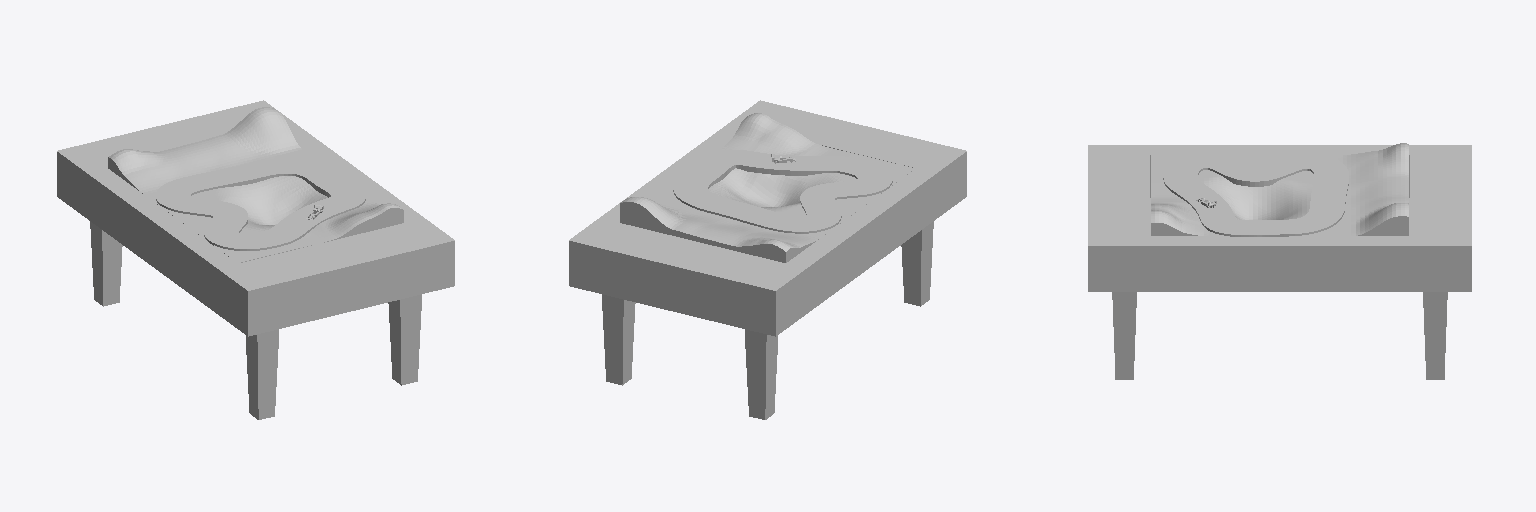
The model's file is NewestTisch42.obj.
3 views of the same model, side by side, from view 1: azimuth 30°, elevation 25°; view 2: azimuth 150°, elevation 25°; view 3: azimuth 270°, elevation 25° (orthographic).
Visible parts, largest first — view 1: Tischplatte_wood_table_001, Landschaft_aerial_grass_rock, off, Bein1_wood_table_001, Bein4_wood_table_001.003, Bein3_wood_table_001.002; view 2: Tischplatte_wood_table_001, Landschaft_aerial_grass_rock, off, Bein2_wood_table_001.001, Bein3_wood_table_001.002, Bein4_wood_table_001.003; view 3: Tischplatte_wood_table_001, Landschaft_aerial_grass_rock, off, Bein1_wood_table_001, Bein2_wood_table_001.001.
Part boxes in pixels (x1,y1,x2,y2): Tischplatte_wood_table_001: (57, 100, 454, 336); Landschaft_aerial_grass_rock: (108, 107, 403, 262); off: (156, 159, 365, 250); Bein1_wood_table_001: (388, 294, 421, 385); Bein4_wood_table_001.003: (246, 329, 278, 419); Bein3_wood_table_001.002: (90, 221, 122, 306); Tischplatte_wood_table_001: (569, 100, 966, 336); Landschaft_aerial_grass_rock: (620, 113, 915, 262); off: (673, 150, 892, 233); Bein2_wood_table_001.001: (602, 294, 635, 385); Bein3_wood_table_001.002: (745, 329, 777, 419); Bein4_wood_table_001.003: (901, 221, 933, 306); Tischplatte_wood_table_001: (1088, 145, 1471, 291); Landschaft_aerial_grass_rock: (1151, 143, 1408, 235); off: (1163, 153, 1348, 236); Bein1_wood_table_001: (1112, 292, 1136, 379); Bein2_wood_table_001.001: (1423, 292, 1447, 379).
Bounding box in the file's own units: 5 × 3.91 × 8.